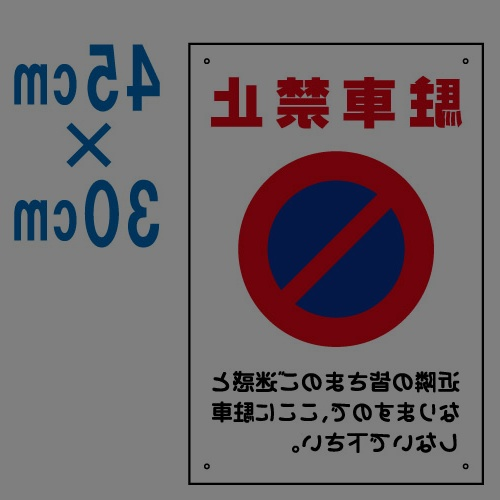Prohibition_sign: (228, 135, 439, 353)
